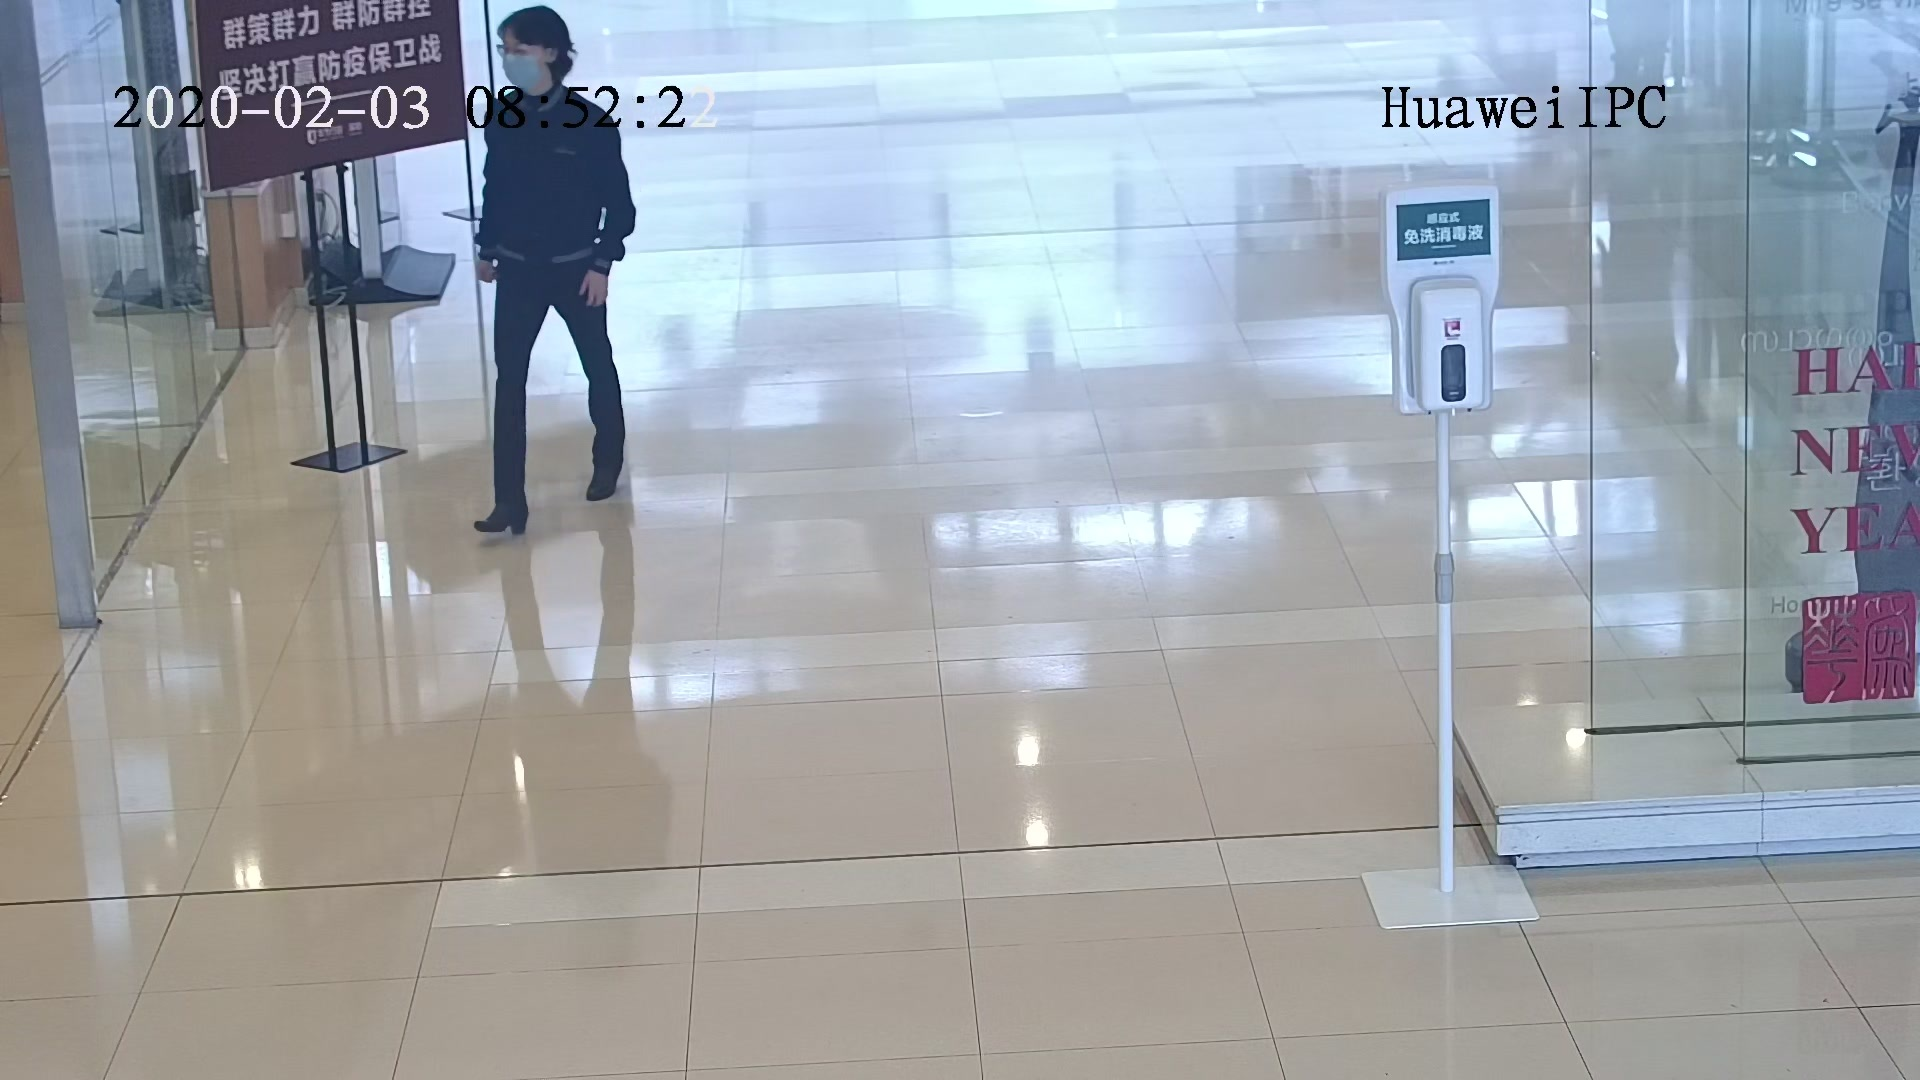face: (496, 34, 552, 94)
mask: (502, 50, 544, 86)
person: (481, 6, 620, 126)
